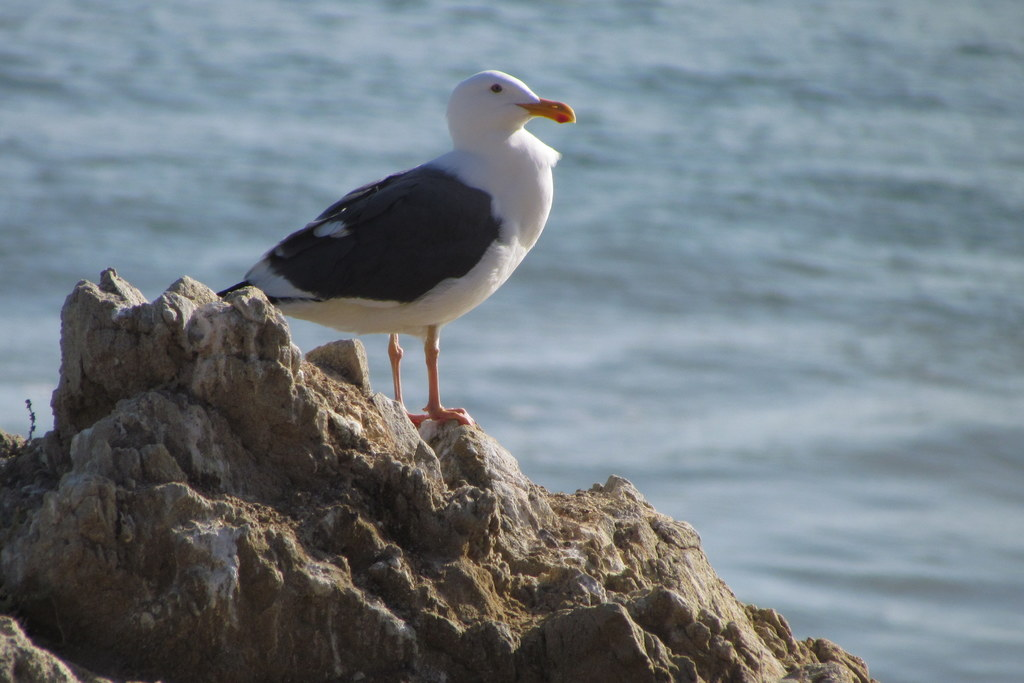Bird: (216, 71, 575, 426)
